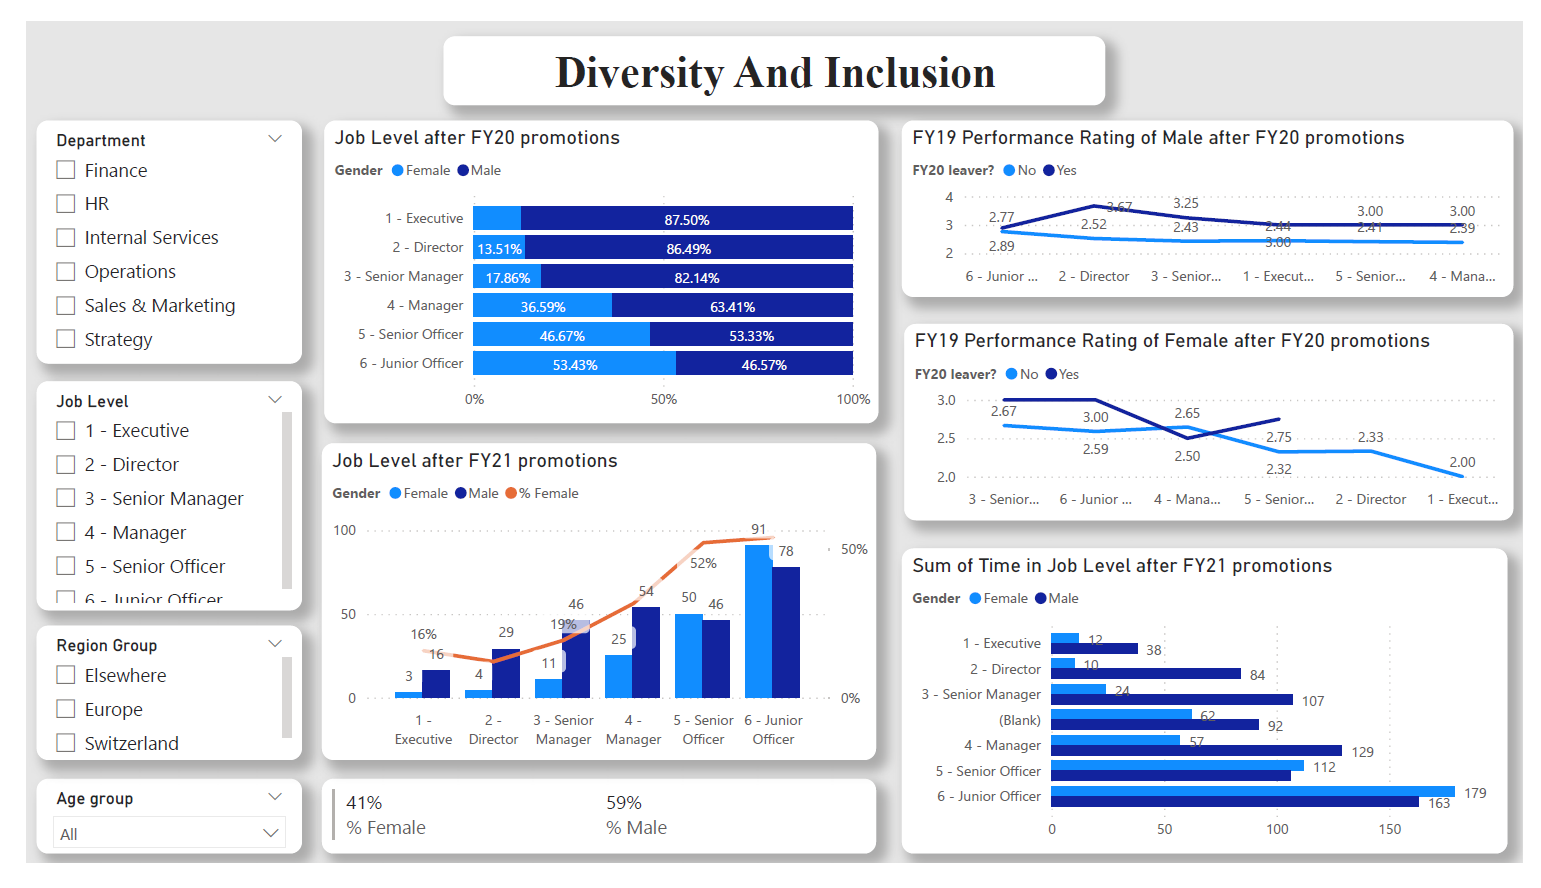

The page's visual inventory and layout, read from the dashboard file:
{"tool":"powerbi","page":{"name":"Page 1","canvas":[1280,720],"ordinal":0},"visuals":[{"type":"textbox","box":[356.8,13.2,566.4,58.5],"z":0},{"type":"slicer","fields":{"Values":["Pharma Group AG.Last Department in FY20"]},"box":[9.4,85,226.5,207.7],"z":1000},{"type":"slicer","fields":{"Values":["Pharma Group AG.Age group"]},"box":[9.4,647.6,226.5,64.2],"z":2000},{"type":"slicer","fields":{"Values":["Pharma Group AG.Job Level after FY20 promotions"]},"box":[9.4,307.7,226.5,196.3],"z":3000},{"type":"slicer","fields":{"Values":["Pharma Group AG.Broad region group: nationality 1"]},"box":[9.4,517.3,226.5,115.2],"z":4000},{"type":"hundredPercentStackedBarChart","title":"Job Level after FY20 promotions ","fields":{"Y":["CountNonNull(Pharma Group AG.Employee ID)"],"Category":["Pharma Group AG.Job Level after FY20 promotions"],"Series":["Pharma Group AG.Gender"]},"box":[254.9,85,473.9,258.6],"z":5000},{"type":"multiRowCard","fields":{"Values":["Pharma.% Female","Pharma.% Male"]},"box":[253,647.6,473.9,64.2],"z":6000},{"type":"lineClusteredColumnComboChart","title":"Job Level after FY21 promotions ","fields":{"Y":["CountNonNull(Pharma.Employee ID)"],"Y2":["Pharma.% Female"],"Series":["Pharma.Gender"],"Category":["Pharma.Job Level after FY21 promotions"]},"box":[253,360.6,473.9,271.9],"z":7000},{"type":"clusteredBarChart","title":"Sum of Time in  Job Level after FY21 promotions","fields":{"Y":["Sum(Pharma.Time in Job Level @01.07.2020)"],"Series":["Pharma.Gender"],"Category":["Pharma.Job Level after FY21 promotions"]},"box":[749.5,451.2,517.3,260.5],"z":8000},{"type":"lineChart","title":"FY19 Performance Rating of Female after FY20 promotions ","fields":{"Series":["Pharma.FY20 leaver?"],"Y":["Avg(Pharma.FY19 Performance Rating)"],"Category":["Pharma.Job Level after FY20 promotions"]},"box":[751.4,258.6,521.1,168],"z":9000},{"type":"lineChart","title":"FY19 Performance Rating of Male after FY20 promotions ","fields":{"Series":["Pharma.FY20 leaver?"],"Y":["Avg(Pharma.FY19 Performance Rating)"],"Category":["Pharma.Job Level after FY20 promotions"]},"box":[749.5,85,522.9,151],"z":10000}]}

Visuals, with their boxes in screenshot pixels (x1, y1, x2, y2), scaled from the page's 1280x720 canvas onto the 1541x888 screenshot:
textbox: x1=430 y1=16 x2=1111 y2=88
slicer - Pharma Group AG.Last Department in FY20: x1=11 y1=105 x2=284 y2=361
slicer - Pharma Group AG.Age group: x1=11 y1=799 x2=284 y2=878
slicer - Pharma Group AG.Job Level after FY20 promotions: x1=11 y1=379 x2=284 y2=622
slicer - Pharma Group AG.Broad region group: nationality 1: x1=11 y1=638 x2=284 y2=780
"Job Level after FY20 promotions " hundredPercentStackedBarChart: x1=307 y1=105 x2=877 y2=424
multiRowCard - Pharma.% Female x Pharma.% Male: x1=305 y1=799 x2=875 y2=878
"Job Level after FY21 promotions " lineClusteredColumnComboChart: x1=305 y1=445 x2=875 y2=780
"Sum of Time in  Job Level after FY21 promotions" clusteredBarChart: x1=902 y1=556 x2=1525 y2=878
"FY19 Performance Rating of Female after FY20 promotions " lineChart: x1=905 y1=319 x2=1532 y2=526
"FY19 Performance Rating of Male after FY20 promotions " lineChart: x1=902 y1=105 x2=1532 y2=291
